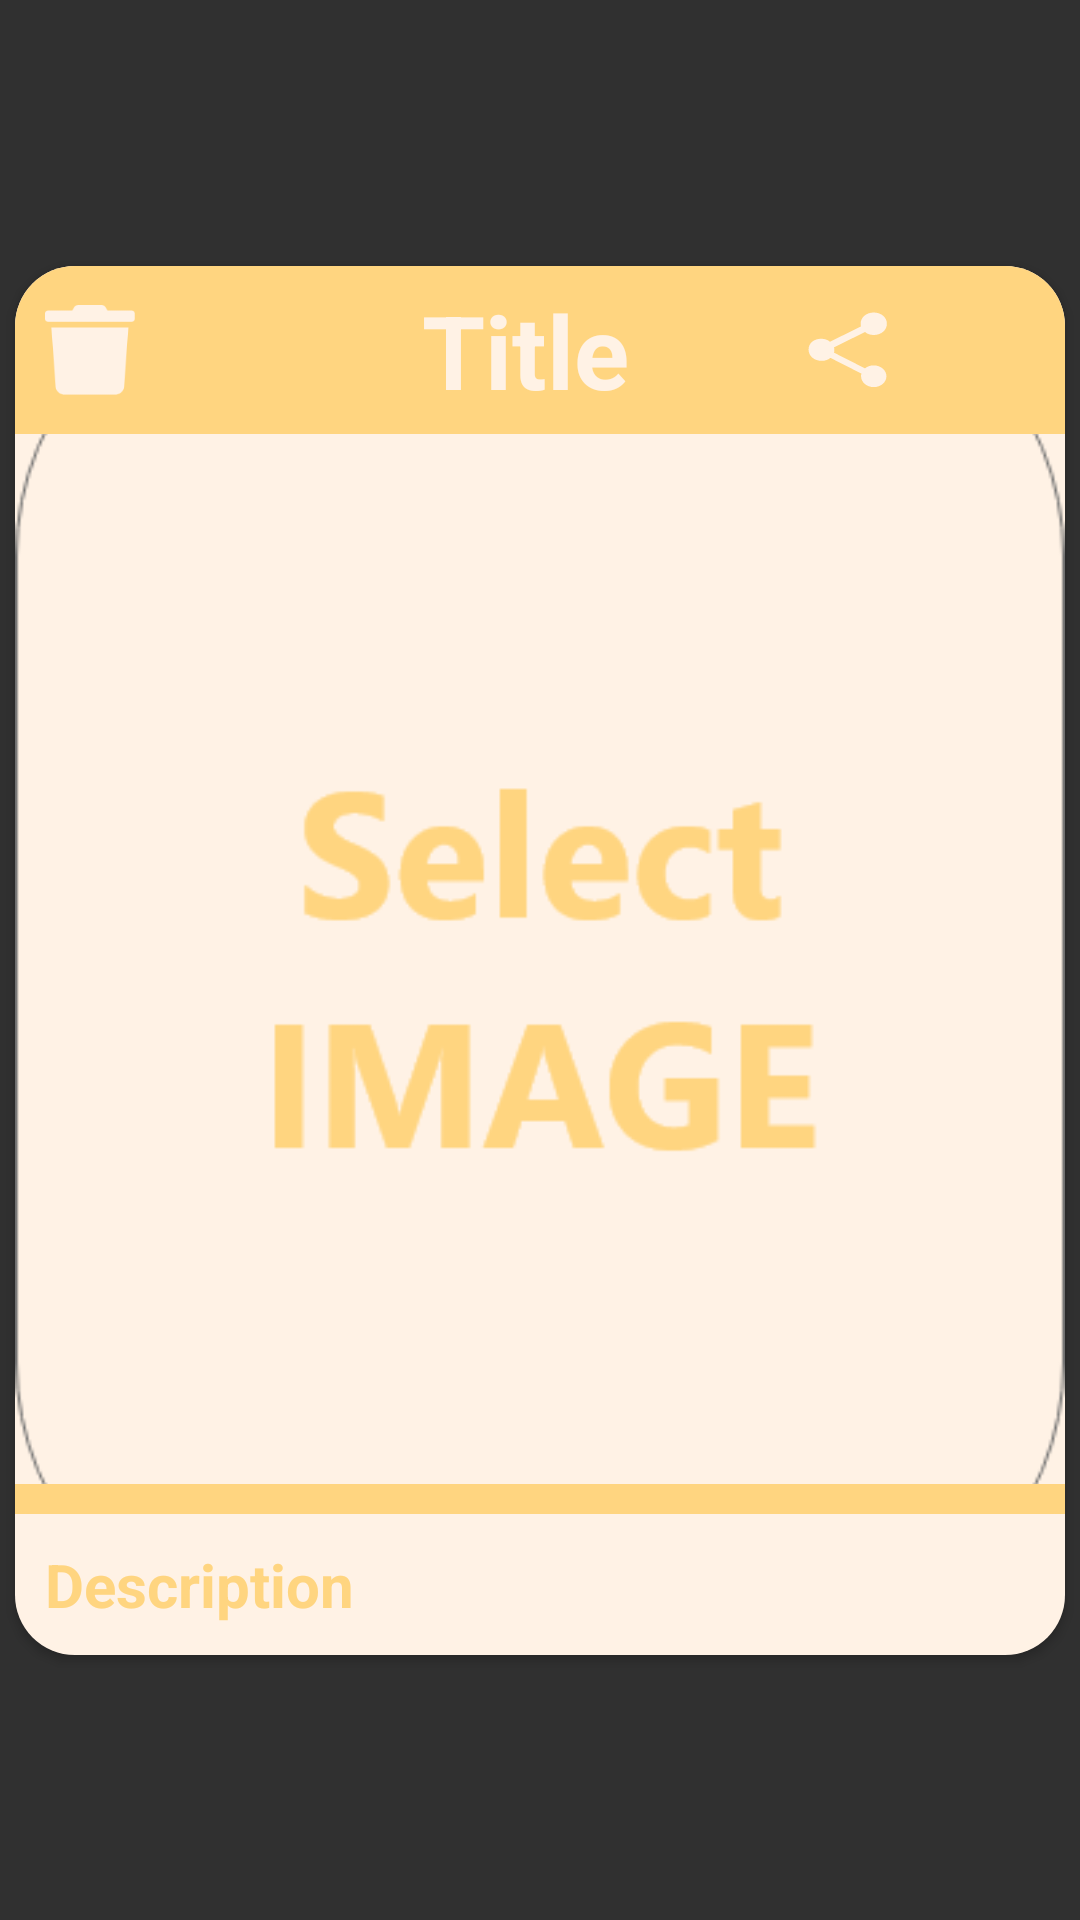

Icon click points for this 1080x1920 phone screenshot, format [x,y]:
whitetrash: [90,350]
